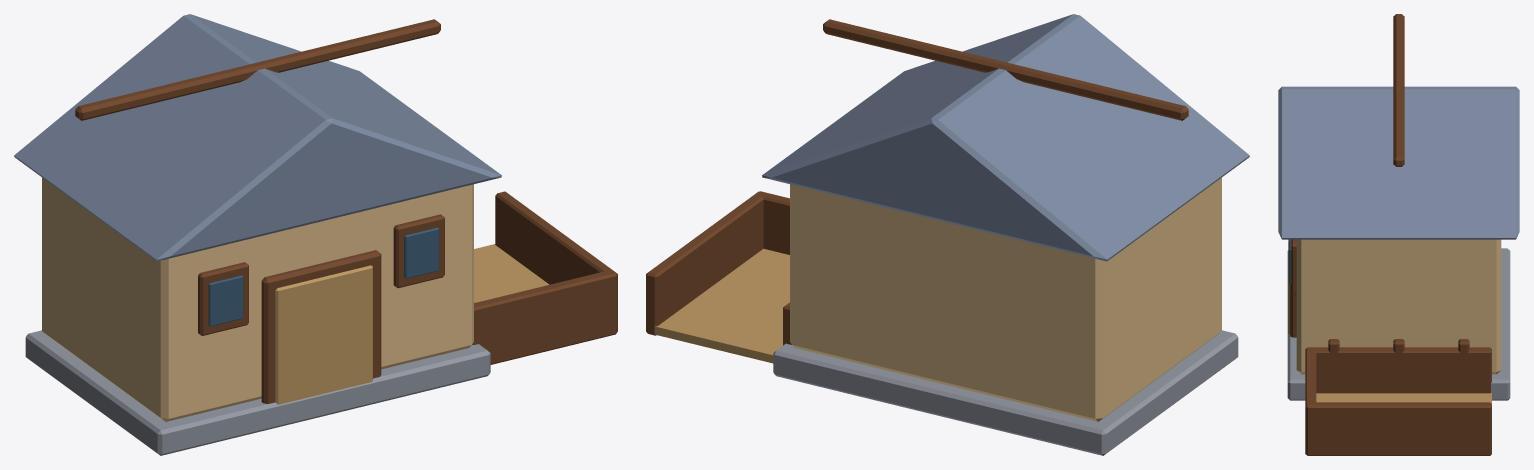
Rendered from SM_Building_Storage.fbx.
3 views of the same model, side by side, from view 1: azimuth 30°, elevation 25°; view 2: azimuth 150°, elevation 25°; view 3: azimuth 270°, elevation 25° (orthographic). The views are drawn at different scales.
Parts seen in each view (by area): view 1: SM_Building_Storage; view 2: SM_Building_Storage; view 3: SM_Building_Storage.
Boxes of the visible parts, left/top/right/bottom form: SM_Building_Storage: left=14, top=14, right=617, bottom=455; SM_Building_Storage: left=646, top=14, right=1249, bottom=455; SM_Building_Storage: left=1278, top=14, right=1519, bottom=455.
Size of the model in its own units: 4.96 by 2.97 by 2.6.
